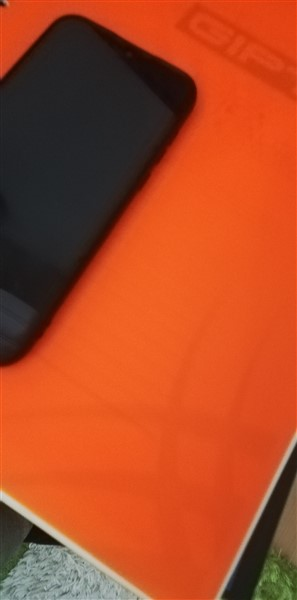telefon: (1, 10, 211, 377)
